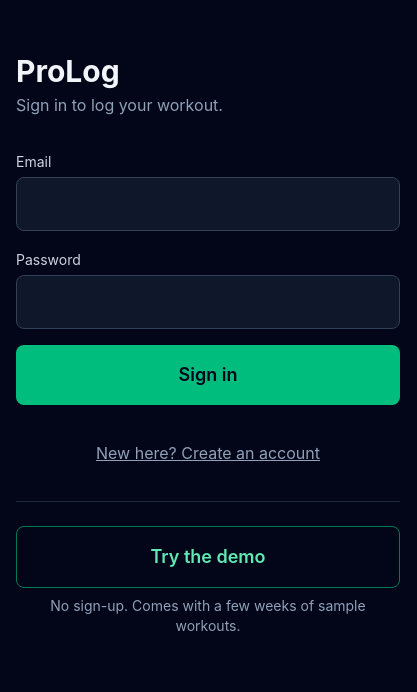
Scenario: AuthScreen › asks the user to check their email when confirmation is required
Click the button "New here? Create an account": (208, 452) [16,428,400,476]
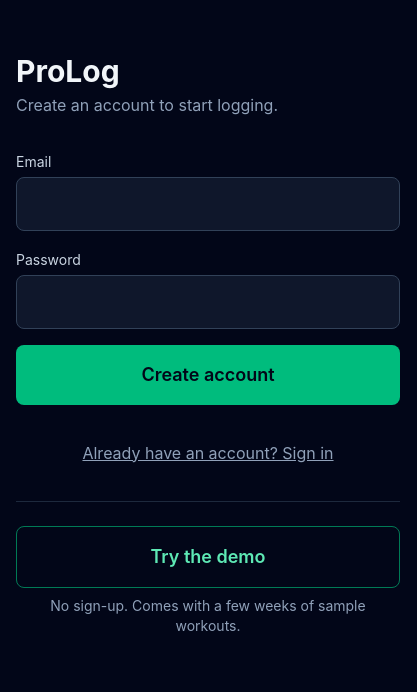
In the field labelled "Email": (208, 204) [16,176,400,230], type "new@example.com"
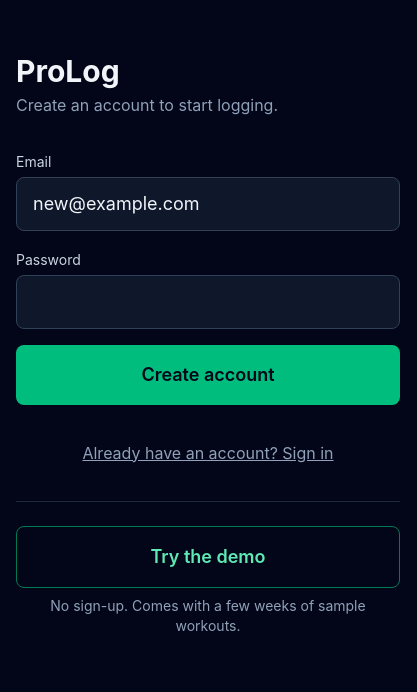
In the password field labelled "Password": (208, 302) [16,274,400,328], type "secret123"
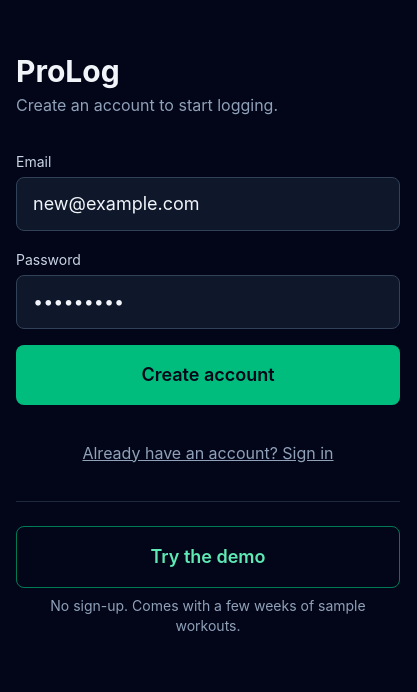
Click the button "Create account": (208, 374) [16,344,400,404]
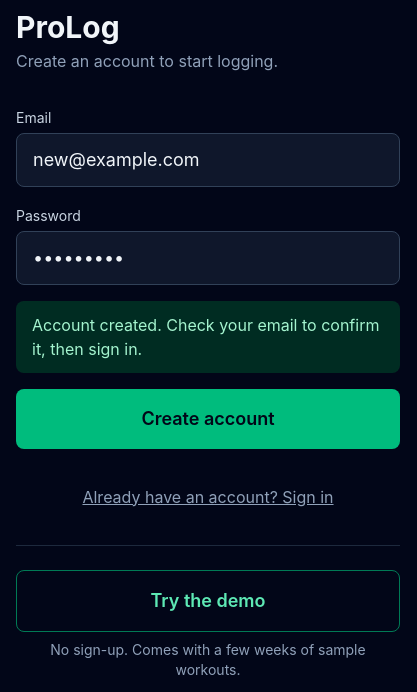
Result: the message shows "Check your email" at [32,314,379,358]
